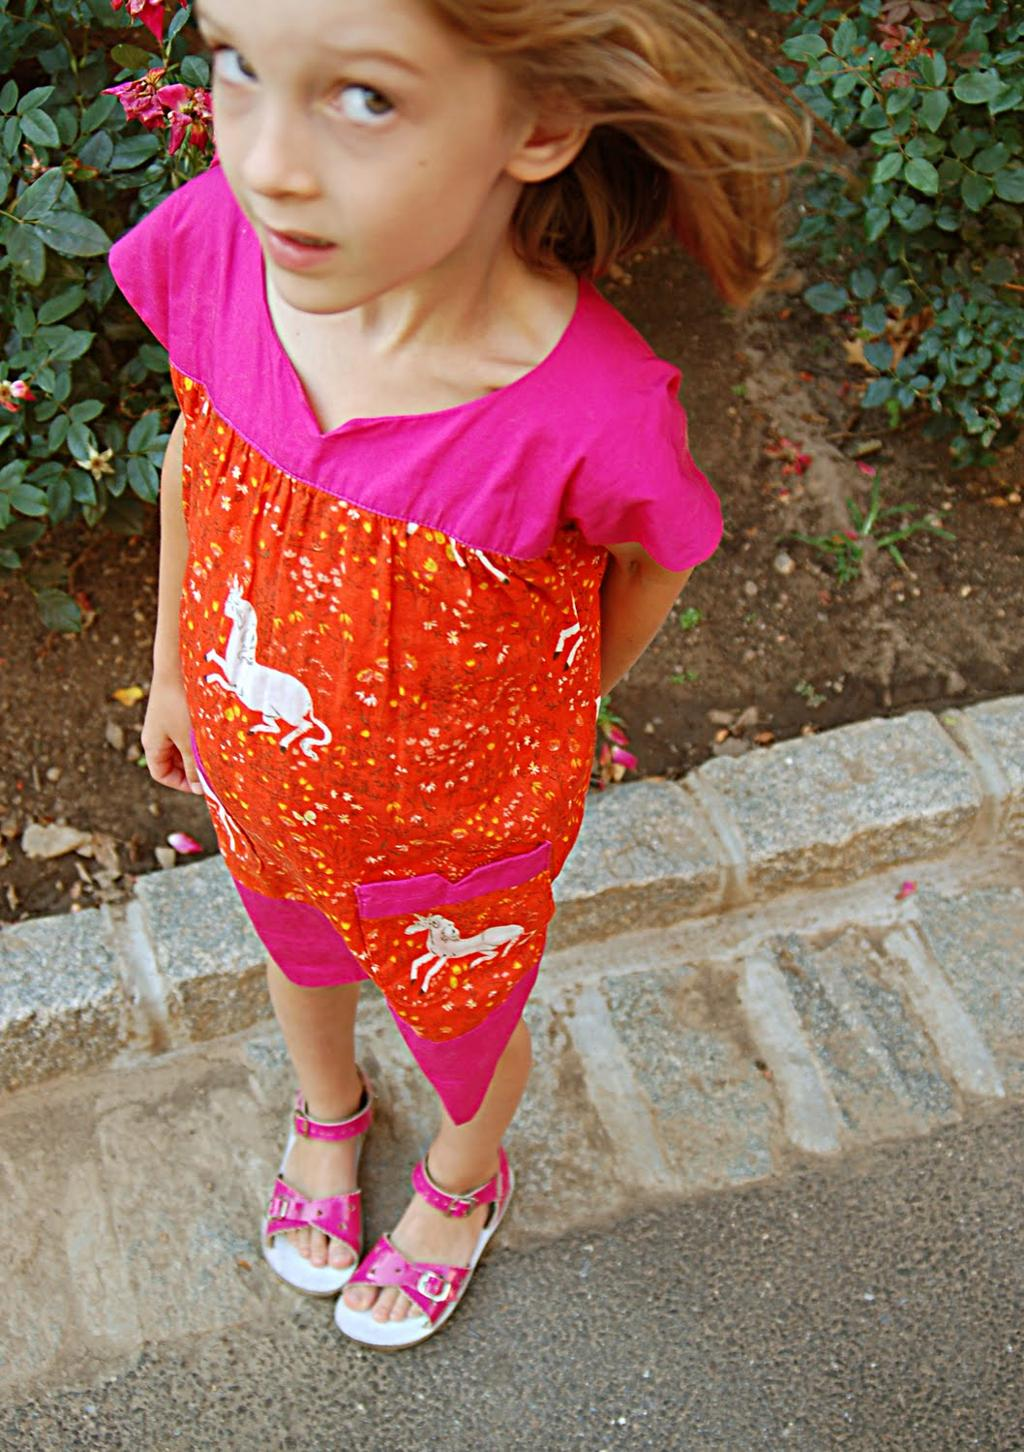face: (196, 3, 514, 312)
